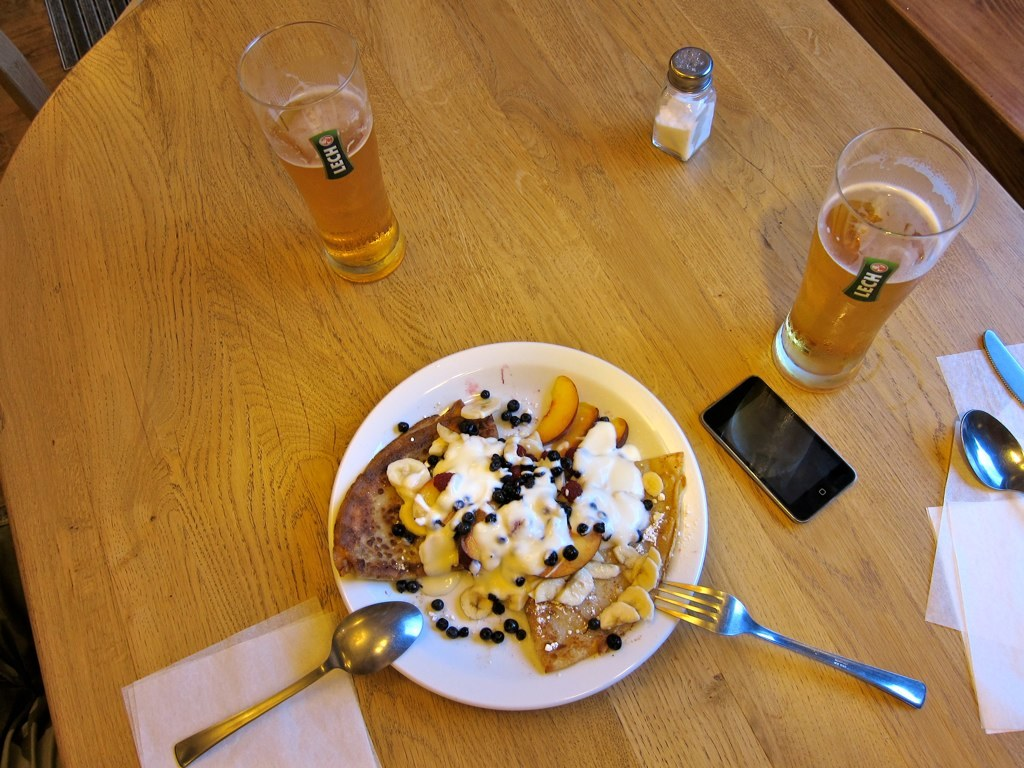Beer: (780, 184, 936, 379), (270, 84, 398, 259)
